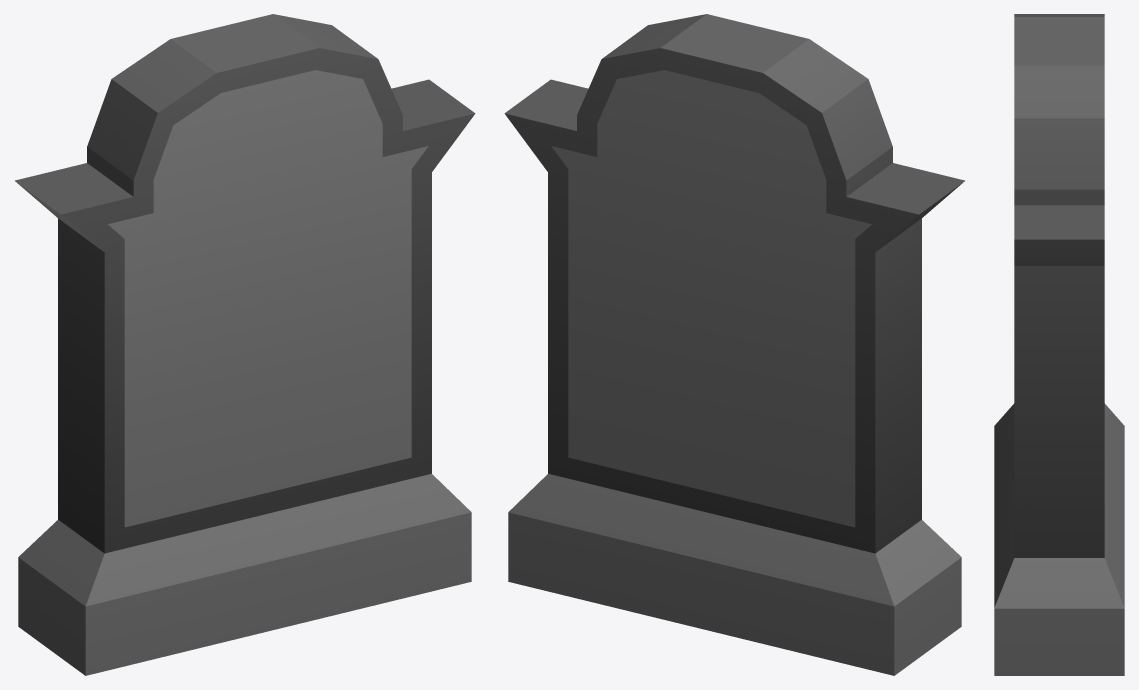
File: tombstone 4.fbx
3 views of the same model, side by side, from view 1: azimuth 30°, elevation 25°; view 2: azimuth 150°, elevation 25°; view 3: azimuth 270°, elevation 25° (orthographic). The views are drawn at different scales.
Visible parts, largest first — view 1: tombstone 4; view 2: tombstone 4; view 3: tombstone 4.
Boxes of the visible parts, left/top/right/bottom form: tombstone 4: left=15, top=14, right=475, bottom=675; tombstone 4: left=504, top=14, right=964, bottom=675; tombstone 4: left=994, top=14, right=1124, bottom=675.
Size of the model in its own units: 83.02 by 107 by 23.37.
